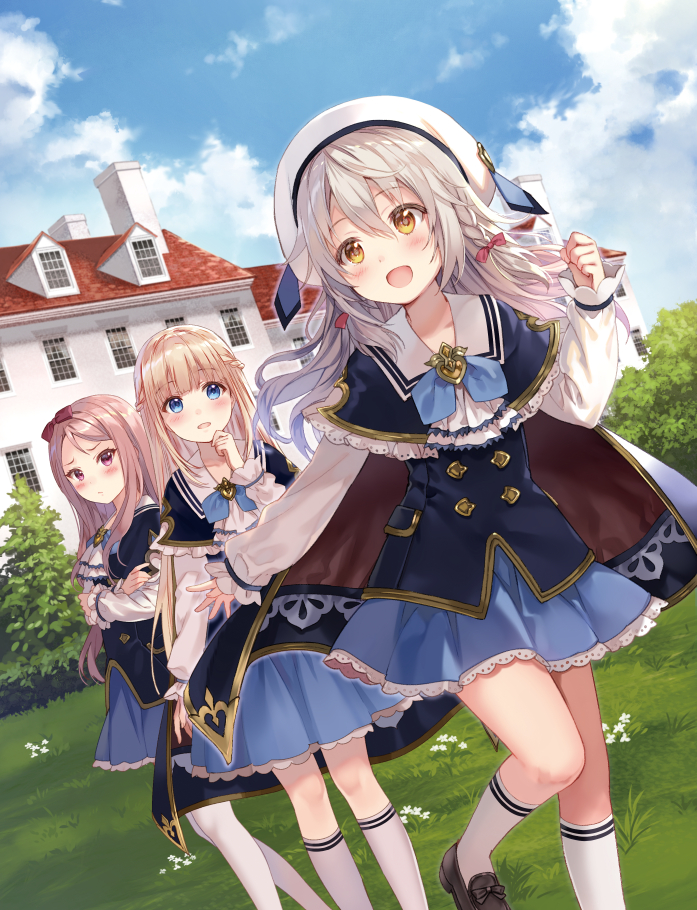纸片人正脸: (272, 89, 505, 319), (126, 324, 255, 459), (40, 392, 161, 520)
